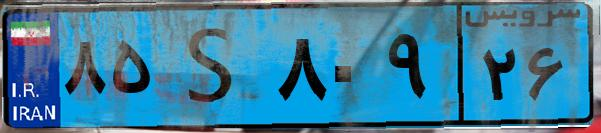0: (330, 28, 385, 110)
2: (475, 38, 525, 113)
5: (110, 28, 158, 98)
6: (525, 38, 570, 115)
8: (270, 28, 330, 110), (57, 26, 110, 100)
9: (385, 28, 445, 110)
S: (158, 12, 270, 120)
